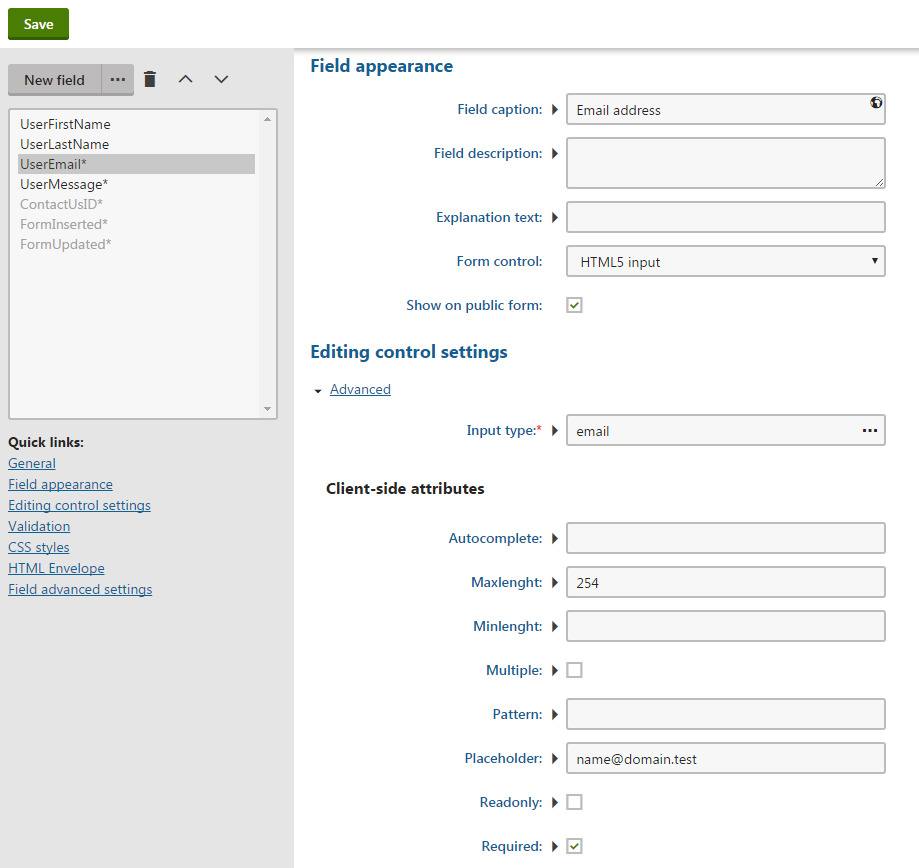_form_: (398, 44, 896, 457), (434, 460, 898, 867), (478, 266, 894, 682), (1, 1, 143, 58)
button: (7, 5, 73, 41)
checkbox: (561, 789, 585, 814), (562, 835, 583, 856), (564, 658, 584, 680), (563, 298, 583, 315)
checkbox_with_label: (407, 294, 585, 320), (479, 786, 588, 817), (479, 832, 585, 859), (484, 655, 589, 682)
field: (563, 137, 888, 190), (562, 519, 885, 556), (564, 89, 886, 126), (564, 608, 886, 645), (563, 412, 888, 448), (563, 696, 887, 732), (566, 243, 887, 279), (562, 740, 886, 775), (564, 200, 889, 234), (562, 565, 887, 597)
field_with_label: (459, 85, 889, 128), (450, 516, 888, 558), (467, 409, 889, 451), (474, 606, 889, 647), (465, 739, 888, 778), (470, 563, 891, 600), (492, 694, 890, 733)
radio_with_label: (434, 135, 892, 192), (456, 241, 890, 282), (438, 198, 891, 235)
